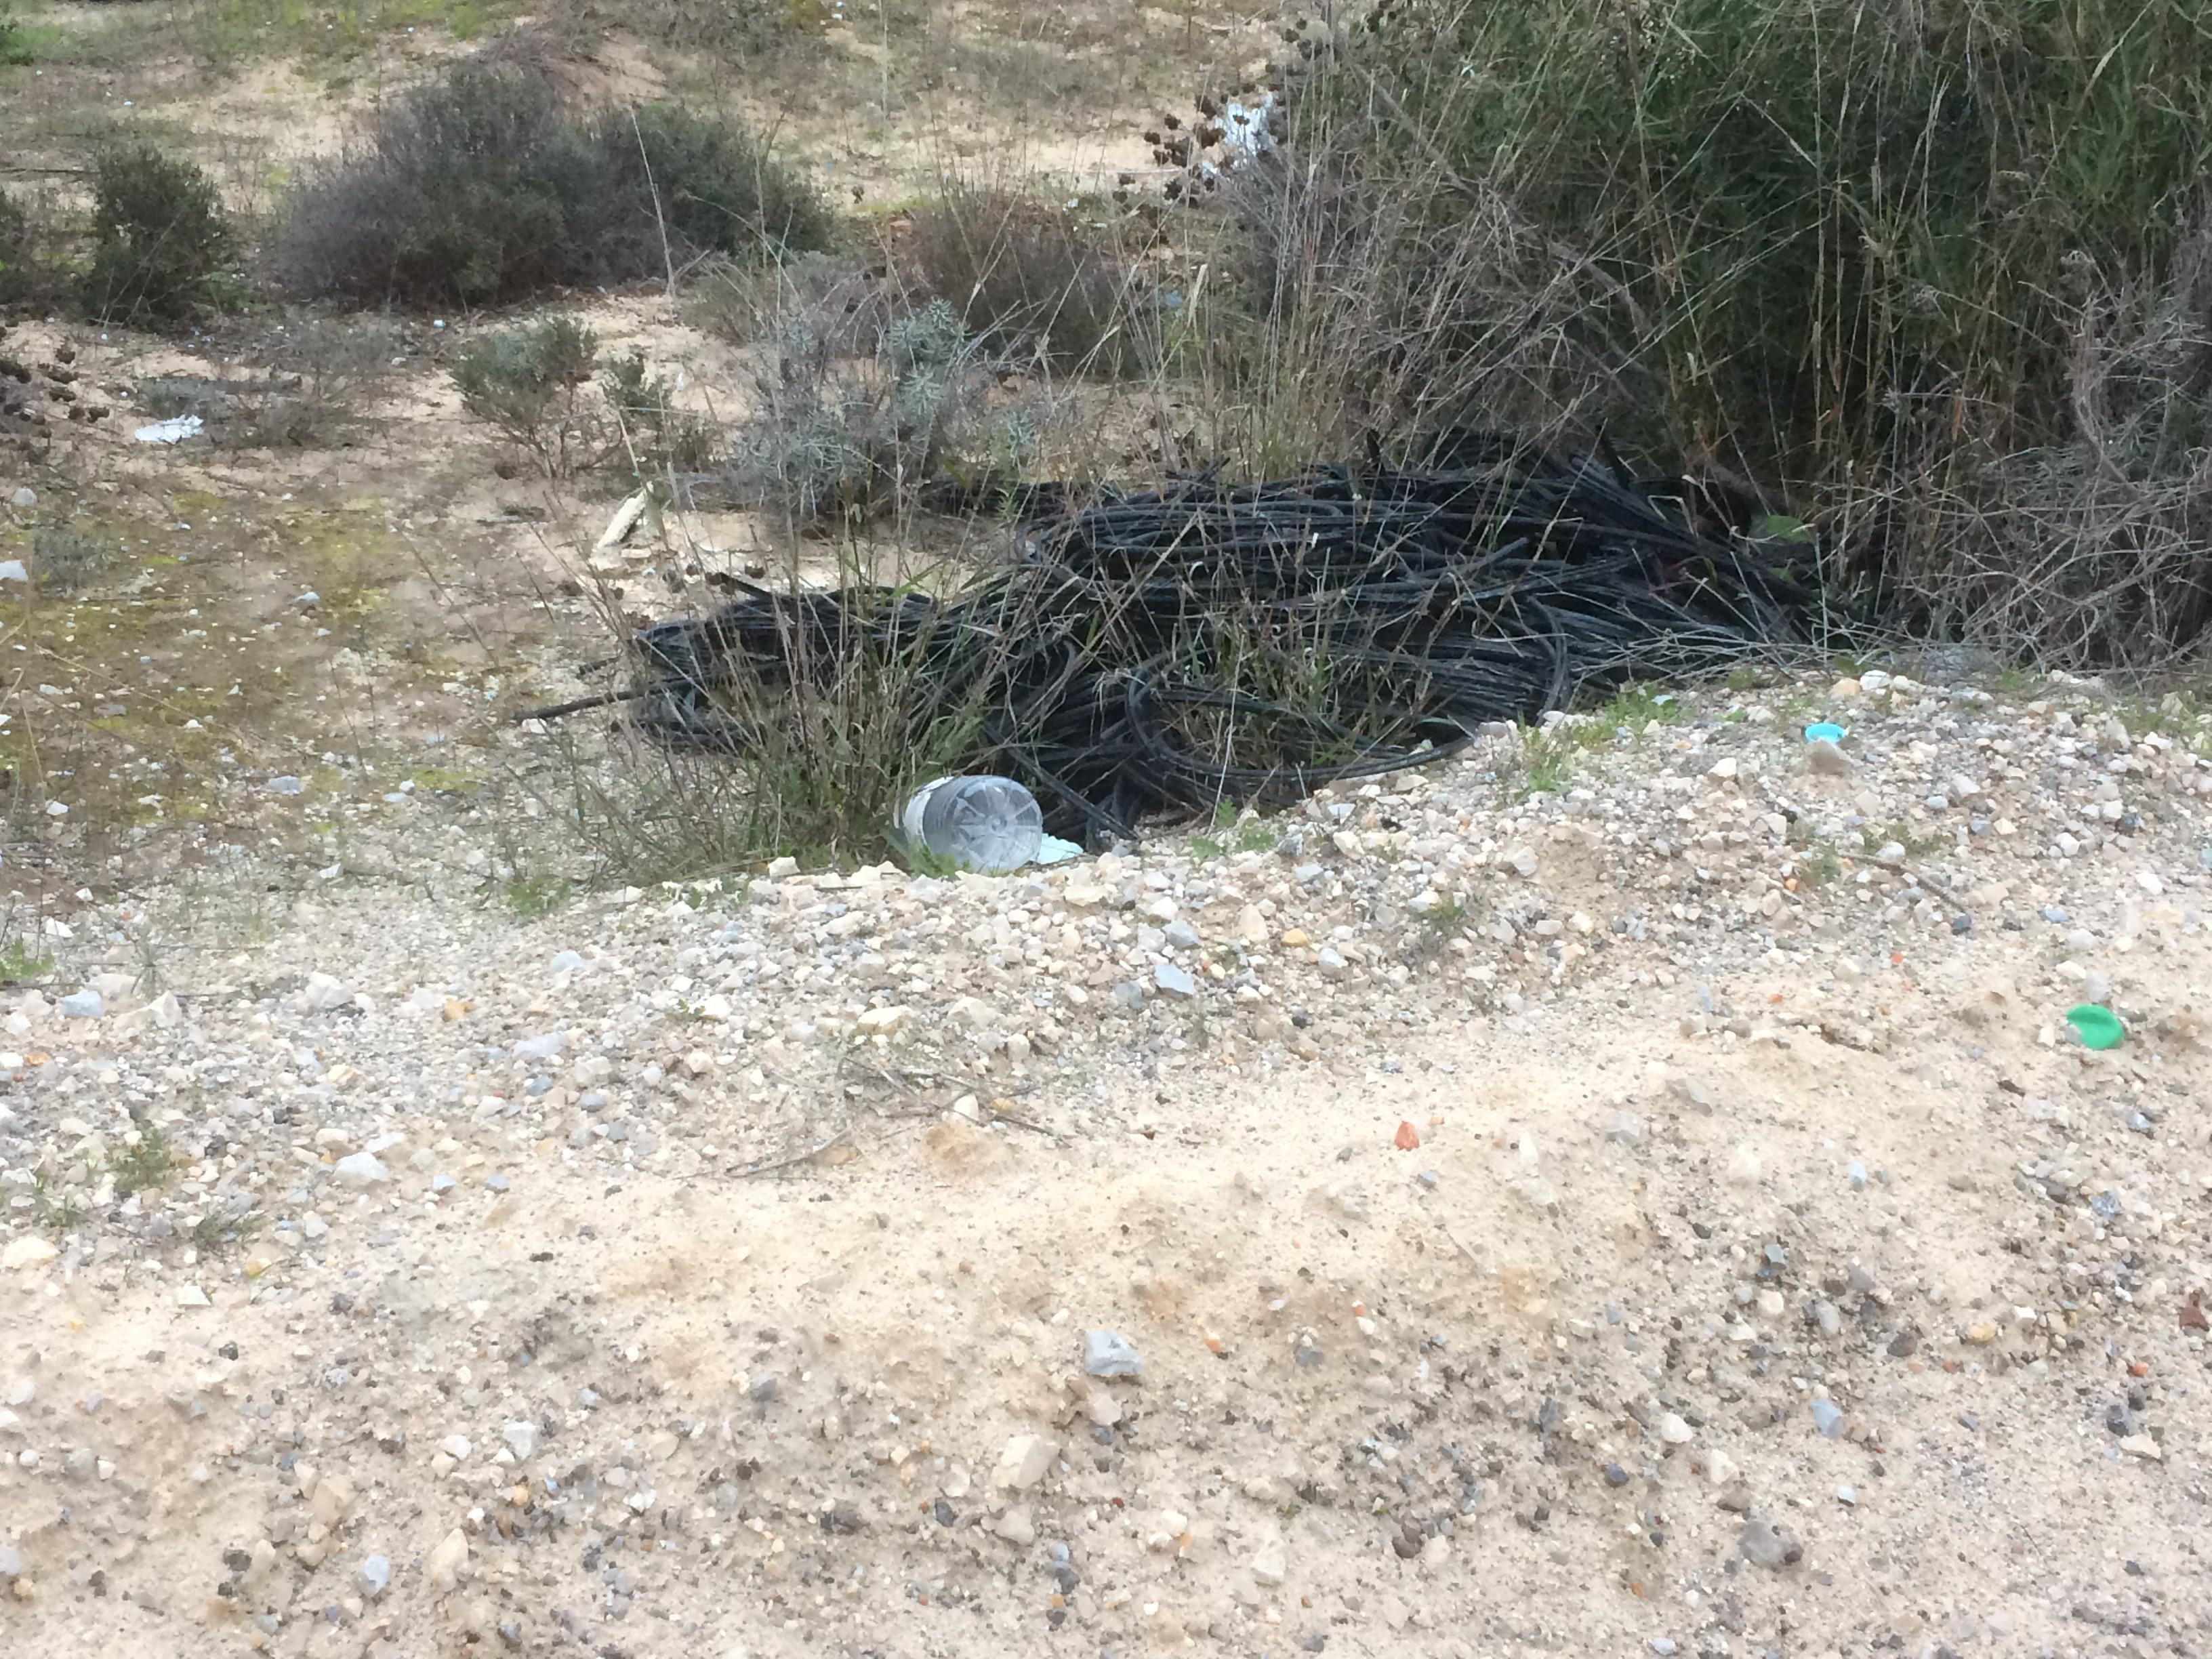Trash: (883, 769, 1050, 880)
